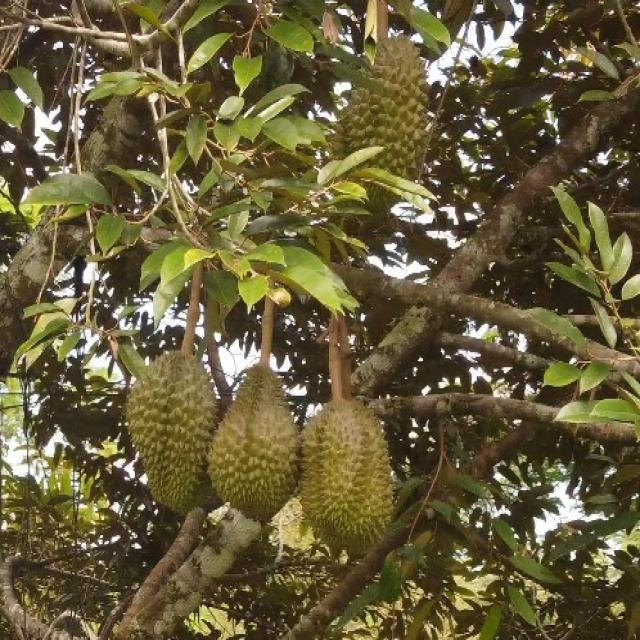immature: (329, 21, 426, 207), (121, 349, 221, 515), (294, 391, 394, 556), (204, 360, 298, 530)
